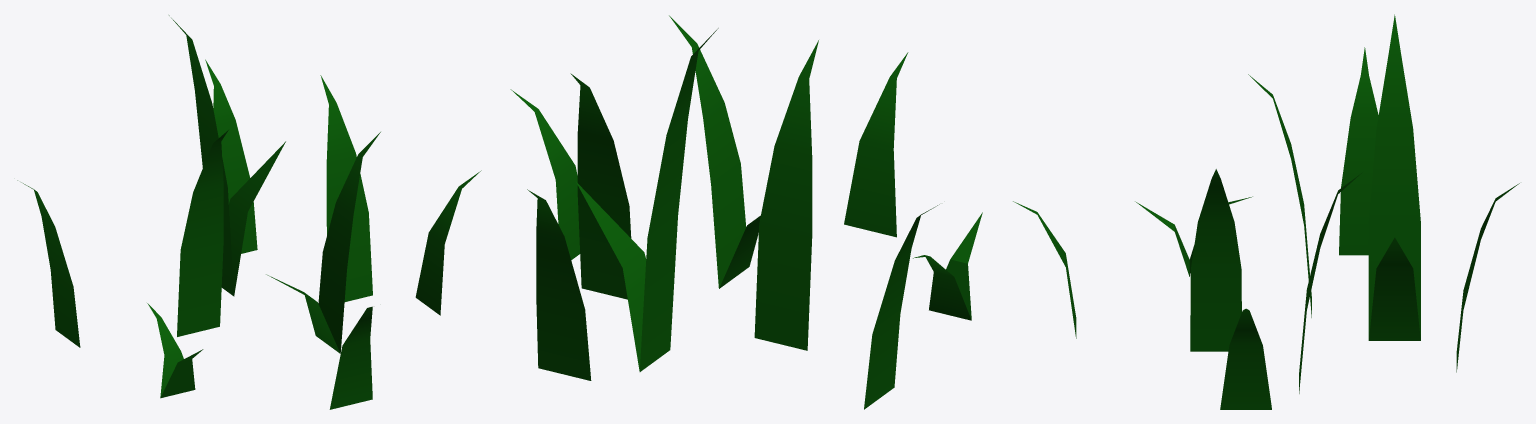
File: Grass.fbx
3 views of the same model, side by side, from view 1: azimuth 30°, elevation 25°; view 2: azimuth 150°, elevation 25°; view 3: azimuth 270°, elevation 25° (orthographic). The views are drawn at different scales.
Visible parts, largest first — view 1: Grass; view 2: Grass; view 3: Grass.
Part boxes in pixels (bbox=[...]): Grass: bbox=[17, 15, 481, 409]; Grass: bbox=[510, 15, 982, 409]; Grass: bbox=[1013, 14, 1519, 409].
Size of the model in its own units: 76.21 by 78.44 by 50.8.
